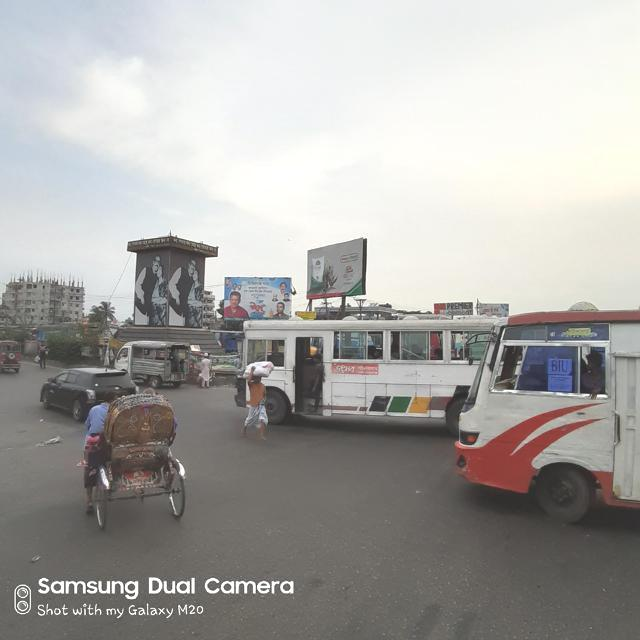BUS: (233, 312, 502, 431)
TRUCK: (115, 340, 212, 390)
